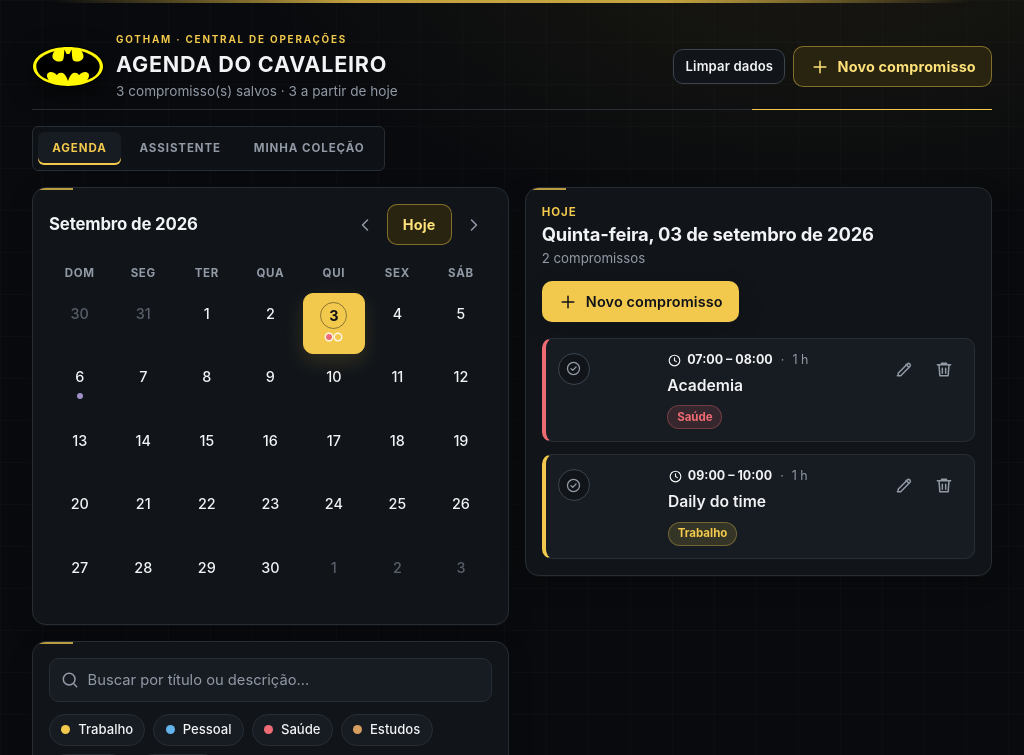
Test case: busca e filtros › filtra por categoria e explica o estado vazio do dia
Click the button "Saúde". click: [292, 730]
box: [252,714,333,746]
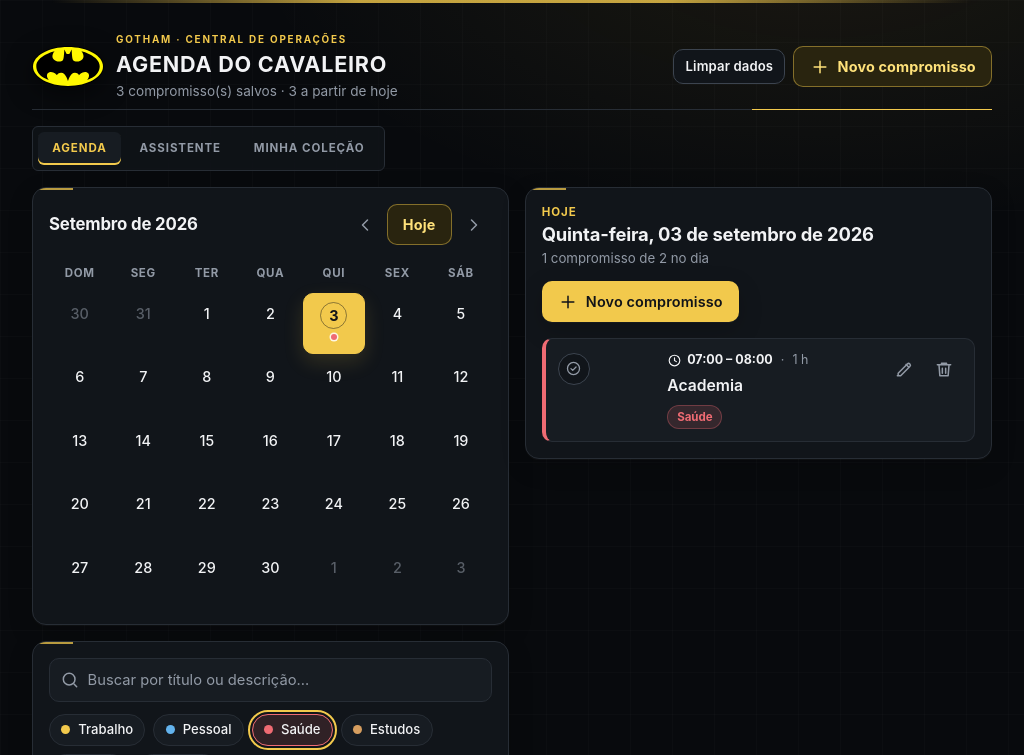
Click the button "Estudos". click: [387, 730]
box: [341,714,433,746]
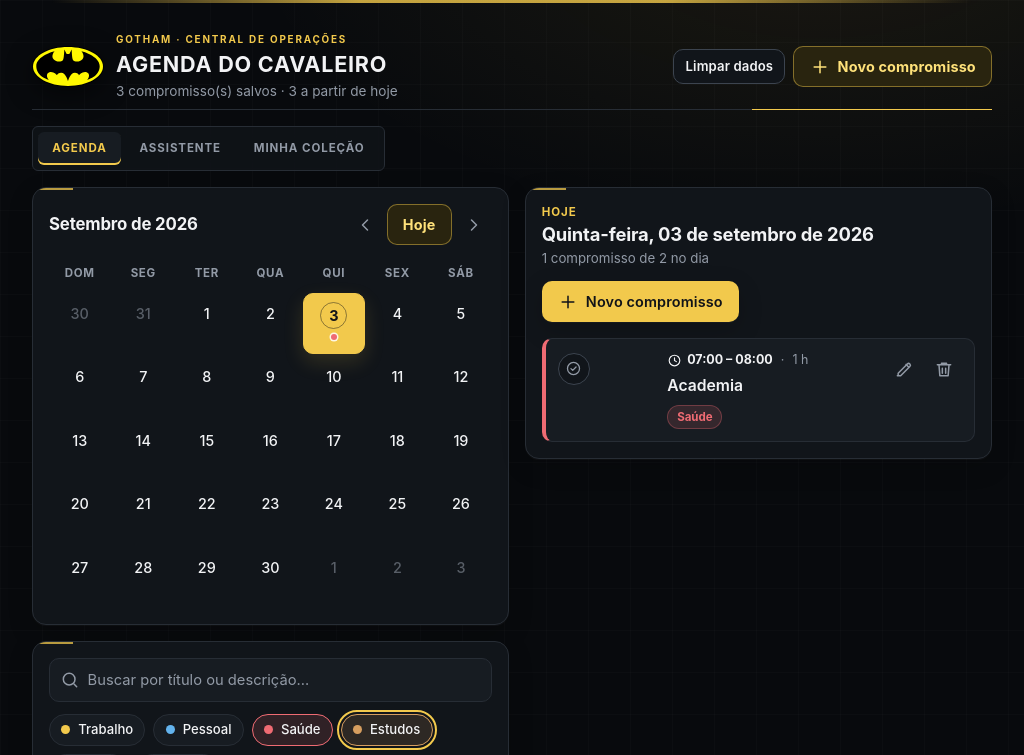
Click the button "Saúde". click: [292, 730]
box: [252,714,333,746]
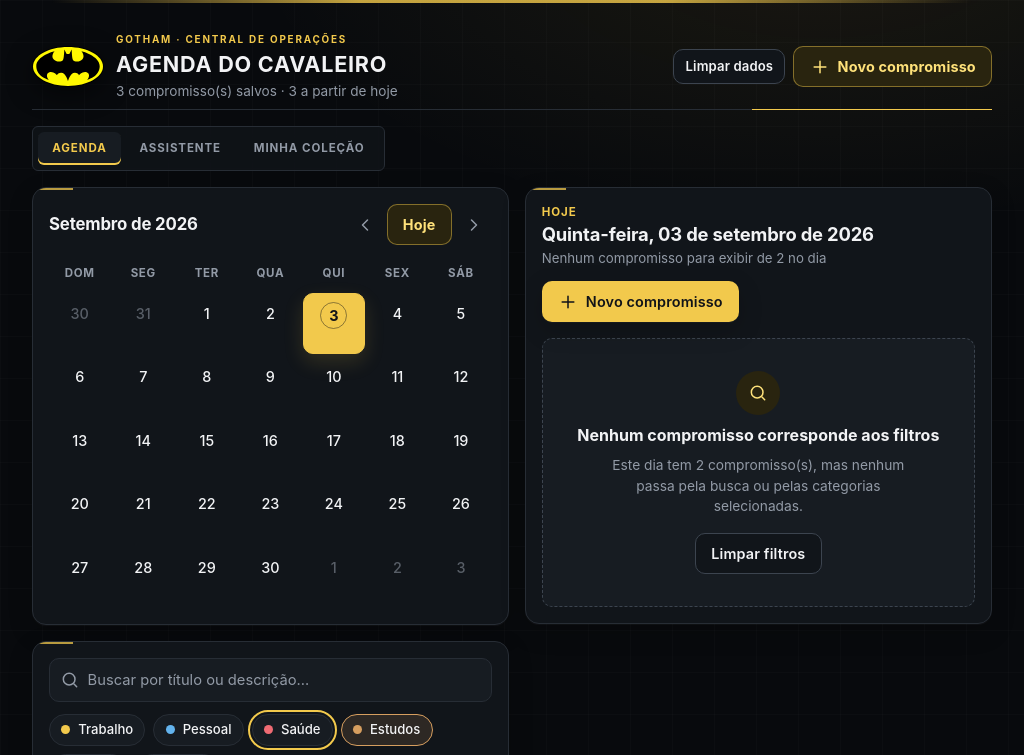
expect the text "Nenhum compromisso corresponde aos filtros" is shown: met, box [577,423,939,447]
Click the button "Limpar filtros". click: [758, 554]
box: [695,533,822,574]
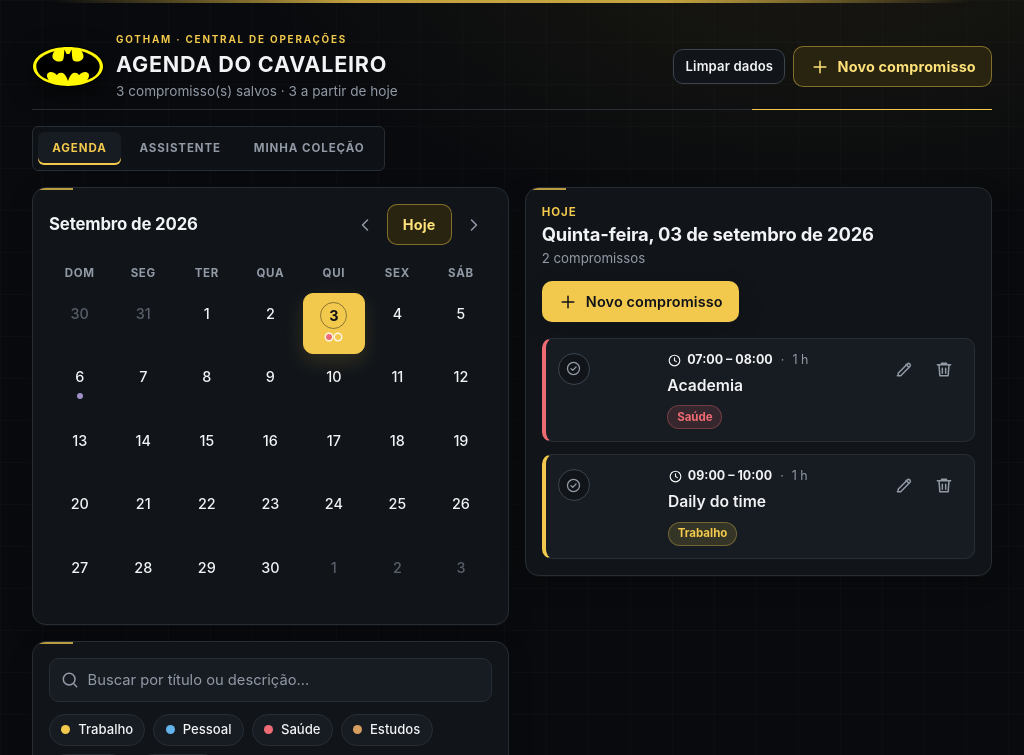
expect the heading "Daily do time" is shown: met, box [668,492,766,511]
